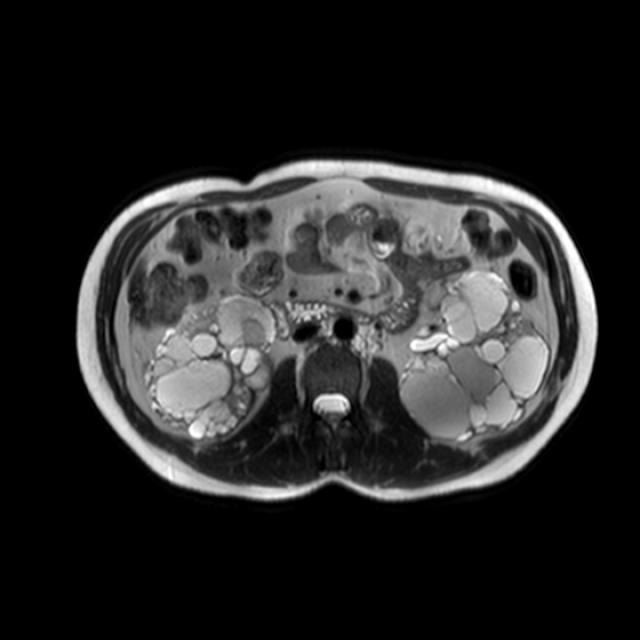sag: (145, 291, 279, 444)
sol: (399, 269, 550, 447)
